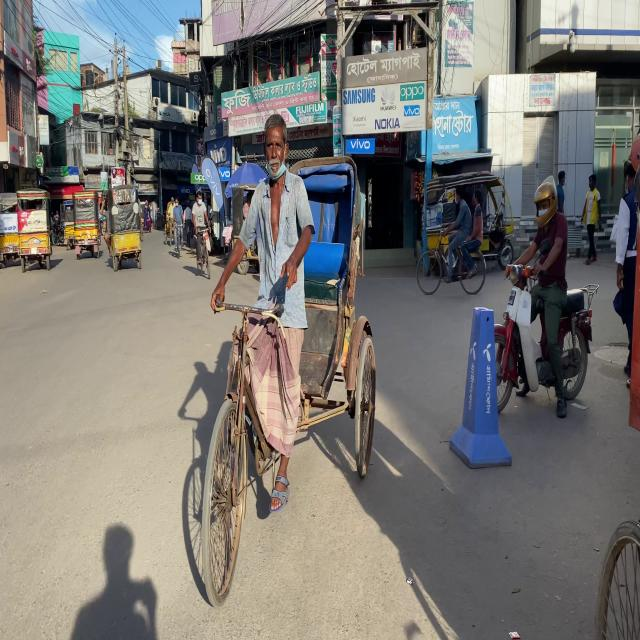bike: (491, 258, 599, 418)
rickshaw: (188, 154, 382, 584)
